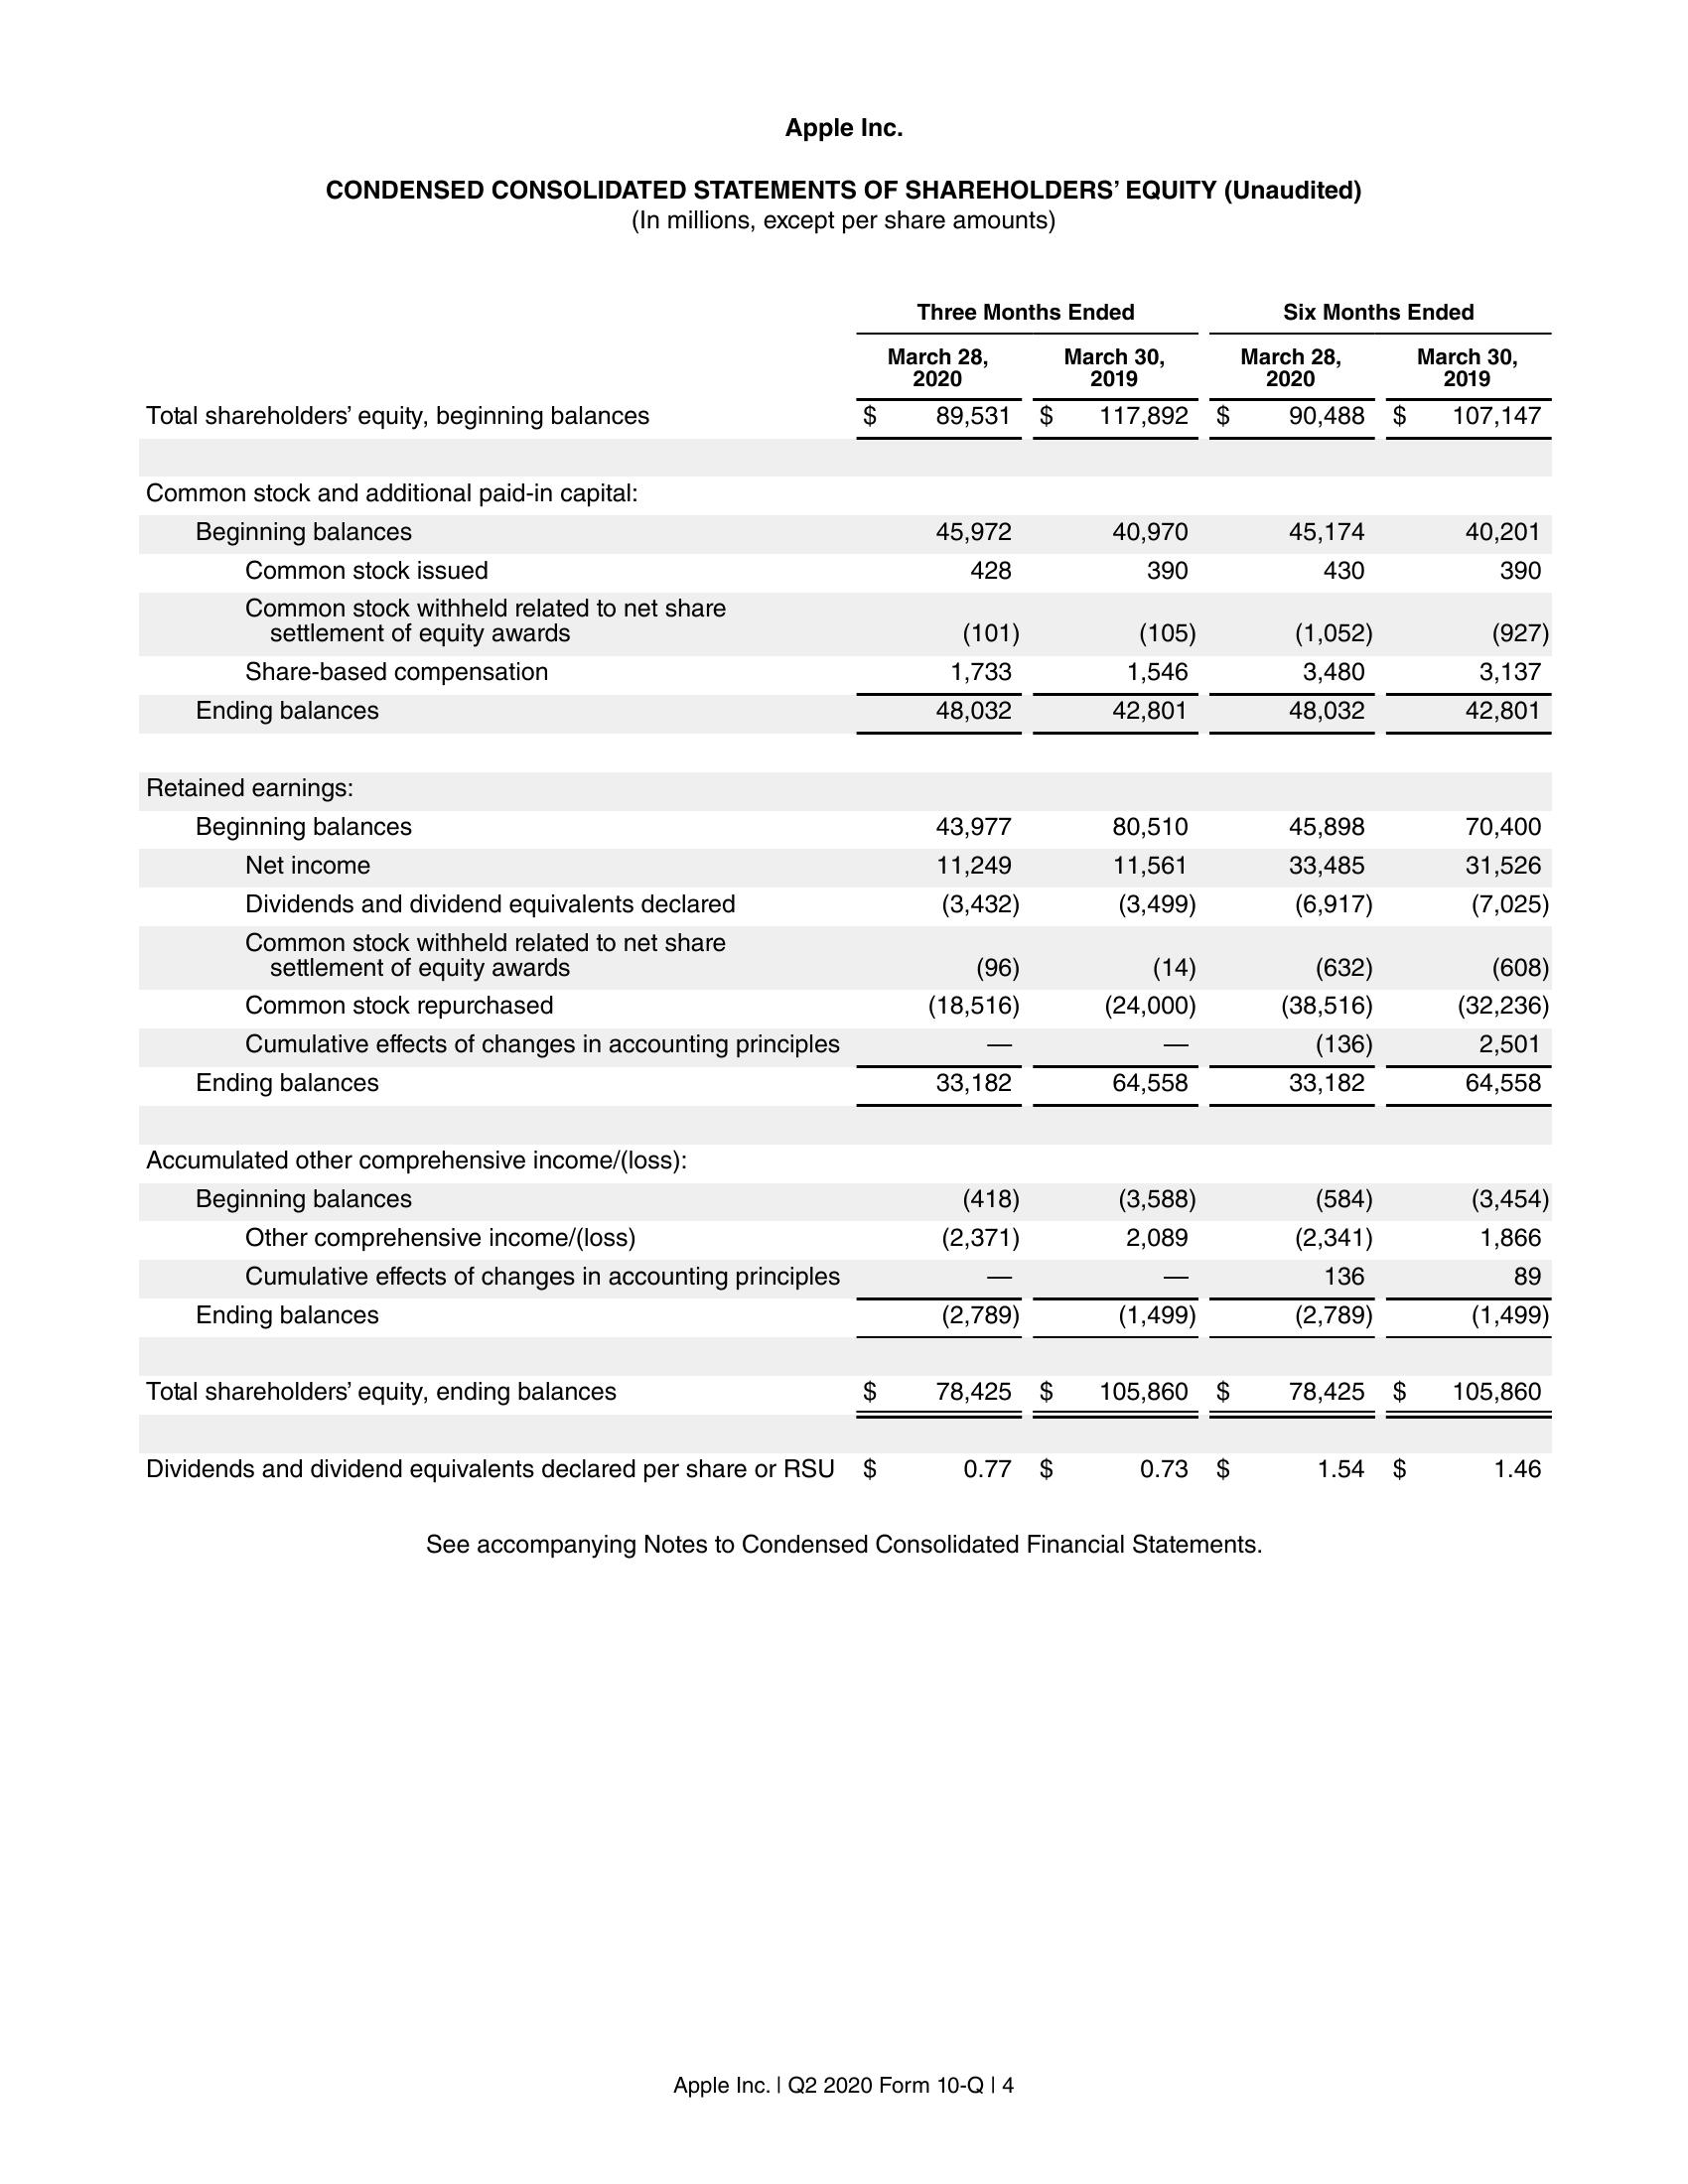table: (131, 300, 1559, 1482)
